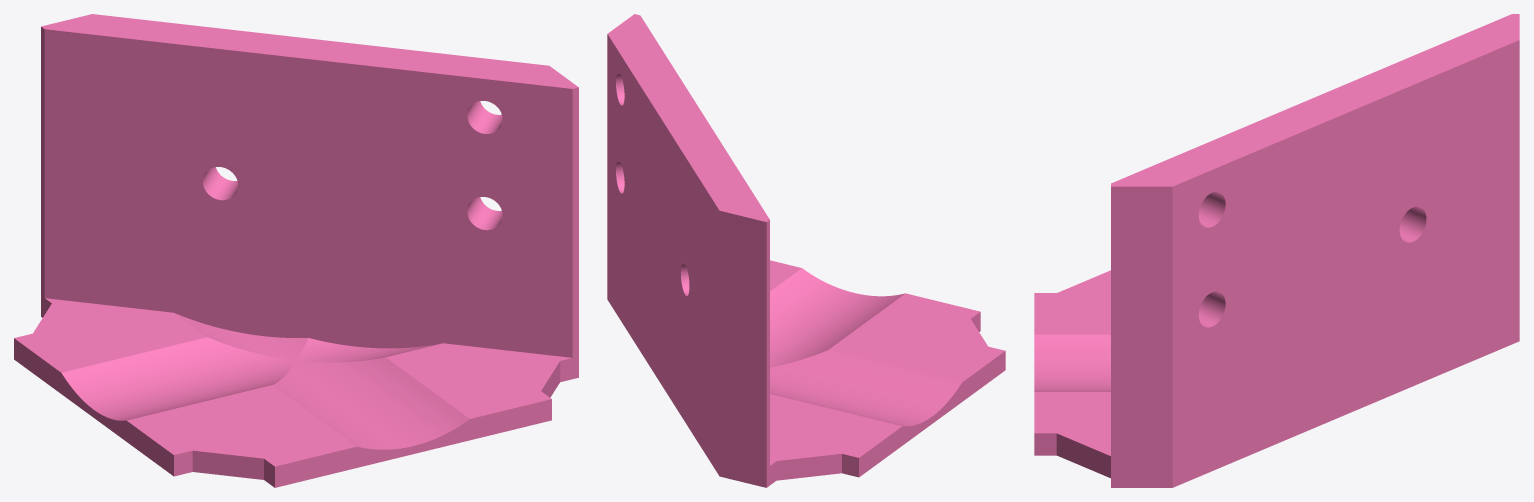
The model's file is V5_Mirror Base Horizontal.obj.
The picture shows the model from 3 angles, left to right: view 1: azimuth 30°, elevation 25°; view 2: azimuth 150°, elevation 25°; view 3: azimuth 270°, elevation 25°; orthographic projection. The views are drawn at different scales.
Visible parts, largest first — view 1: Solid1:27; view 2: Solid1:27; view 3: Solid1:27.
Part boxes in pixels (box(x1,y1,x2,y2)): Solid1:27: box(14, 14, 578, 487); Solid1:27: box(607, 14, 1005, 487); Solid1:27: box(1034, 14, 1519, 487).
Size of the model in its own units: 49.65 by 34 by 49.65.
